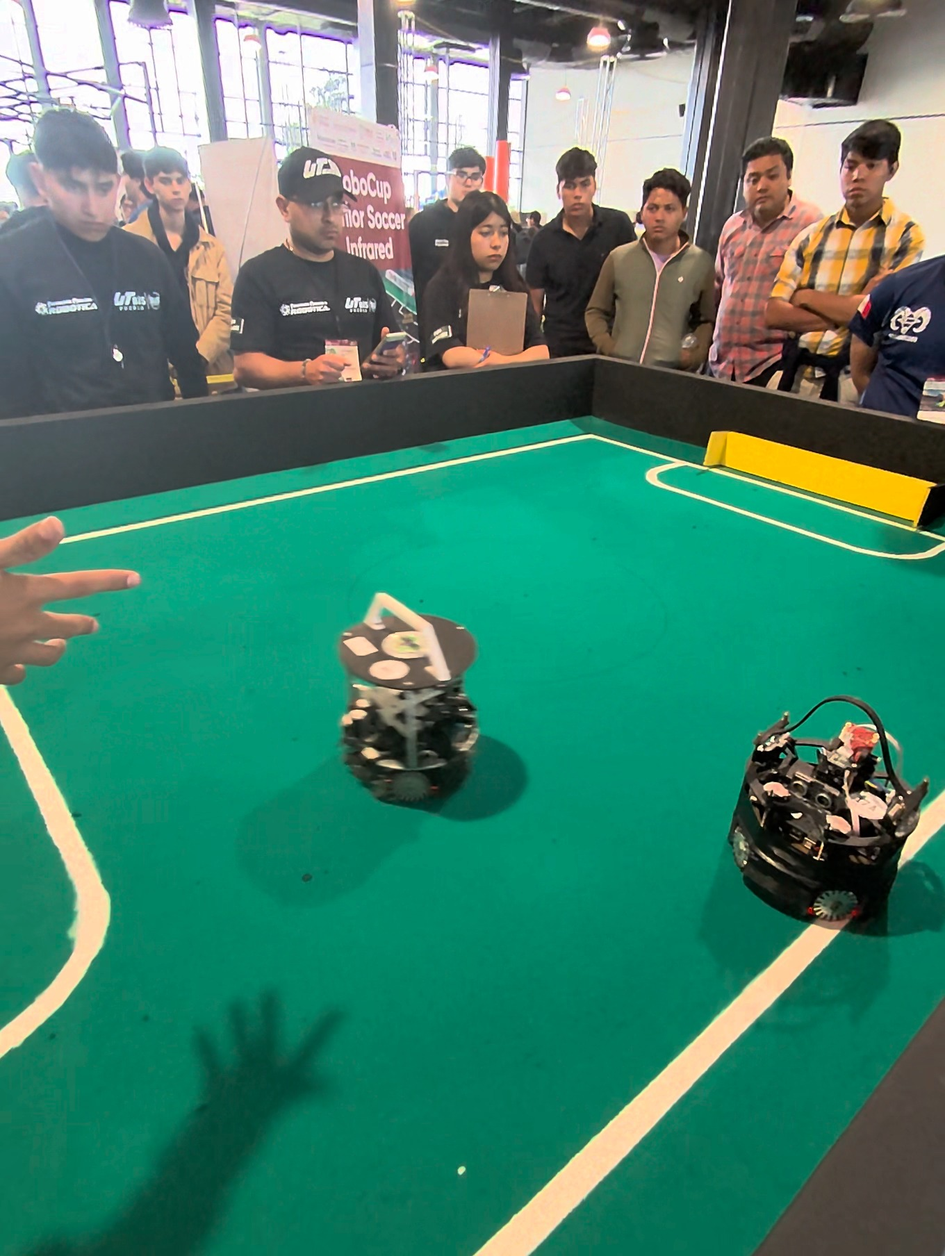Robot: (730, 684, 935, 944), (334, 572, 499, 820)
